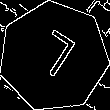L_SW: (27, 27, 80, 86)
